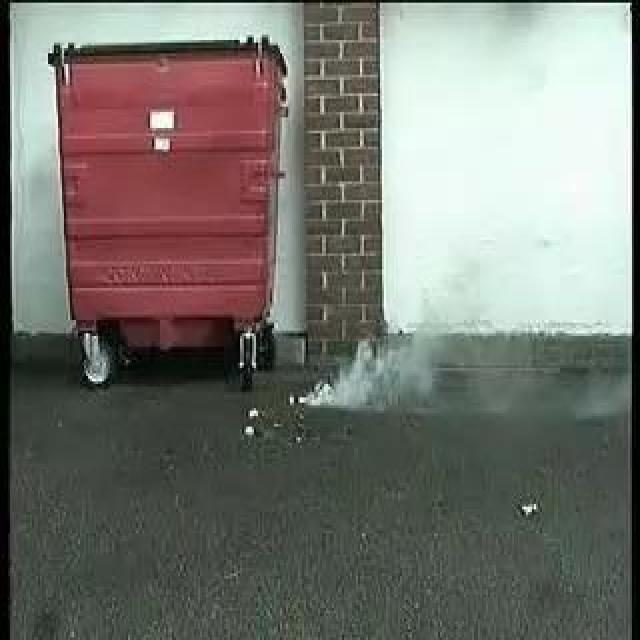Smoke: (307, 335, 417, 409)
